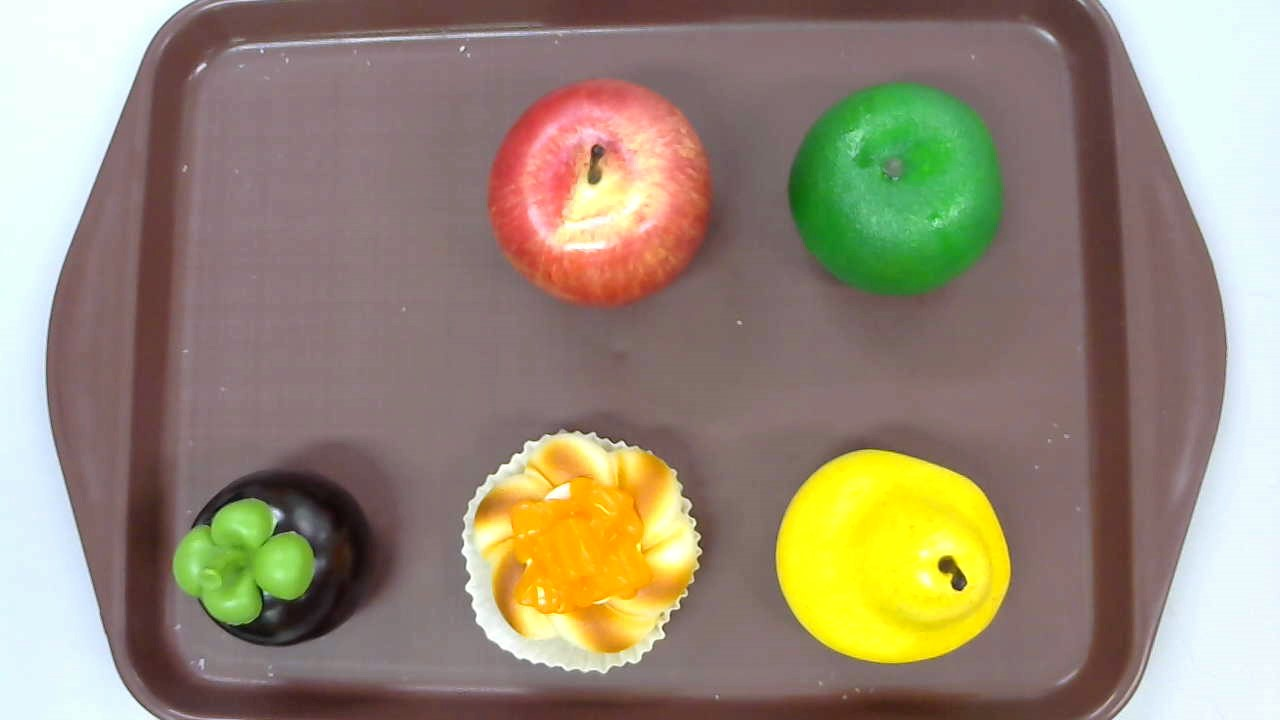green orange: (787, 82, 1002, 297)
mango tart: (460, 428, 703, 677)
mangosteen: (172, 466, 376, 648)
red apple: (487, 78, 714, 310)
yellow pear: (774, 448, 1010, 665)
